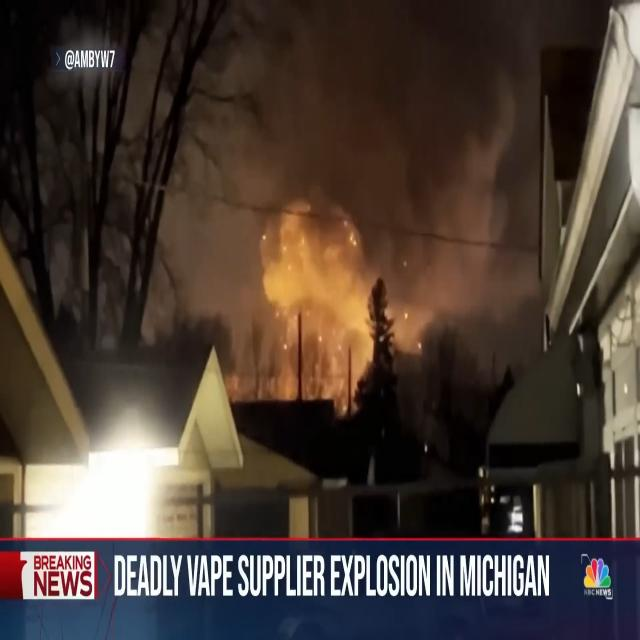fire: (236, 200, 428, 423)
